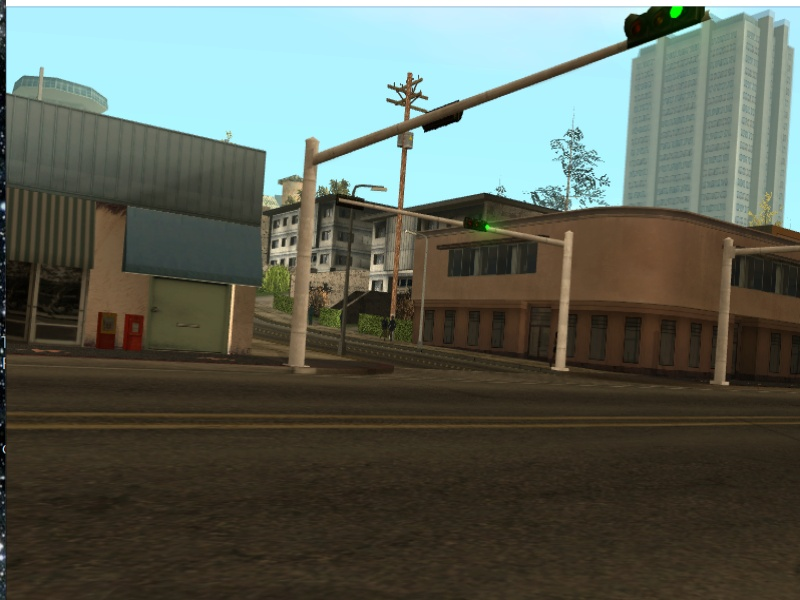person: (381, 314, 390, 338)
pole: (293, 145, 319, 370), (712, 241, 730, 394), (555, 237, 573, 379), (344, 205, 353, 354), (420, 239, 431, 347)
